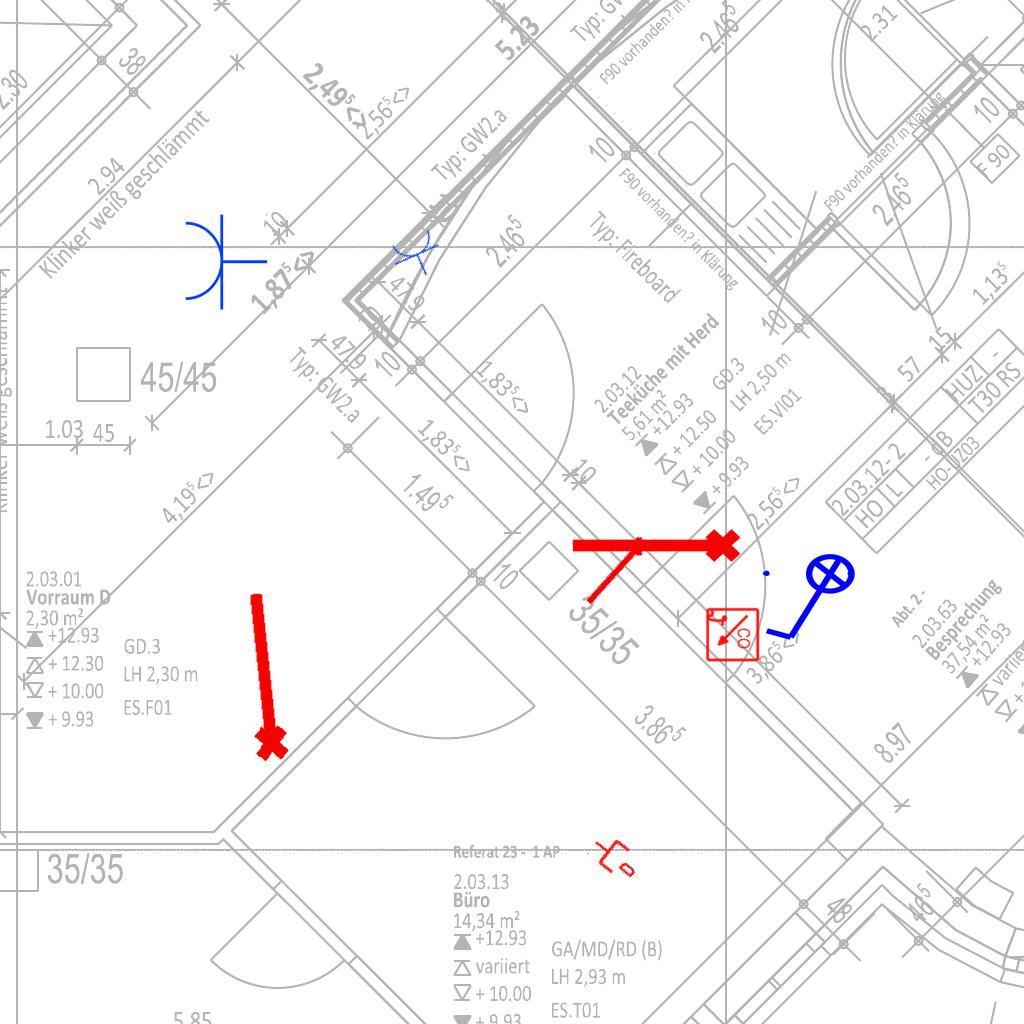ASR_Ansaugoeffnung: (229, 586, 295, 766), (567, 525, 743, 571), (579, 532, 655, 613)
Ausschalter_beleuchtet: (757, 552, 869, 648)
Datenanschluss_einfach: (584, 828, 646, 886)
ROA_Rauchmelder_optisch_mit_Signalgeber_(Sockelsirene): (704, 607, 760, 663)
Schukosteckdose_einfach: (181, 211, 268, 311), (386, 225, 450, 286)
